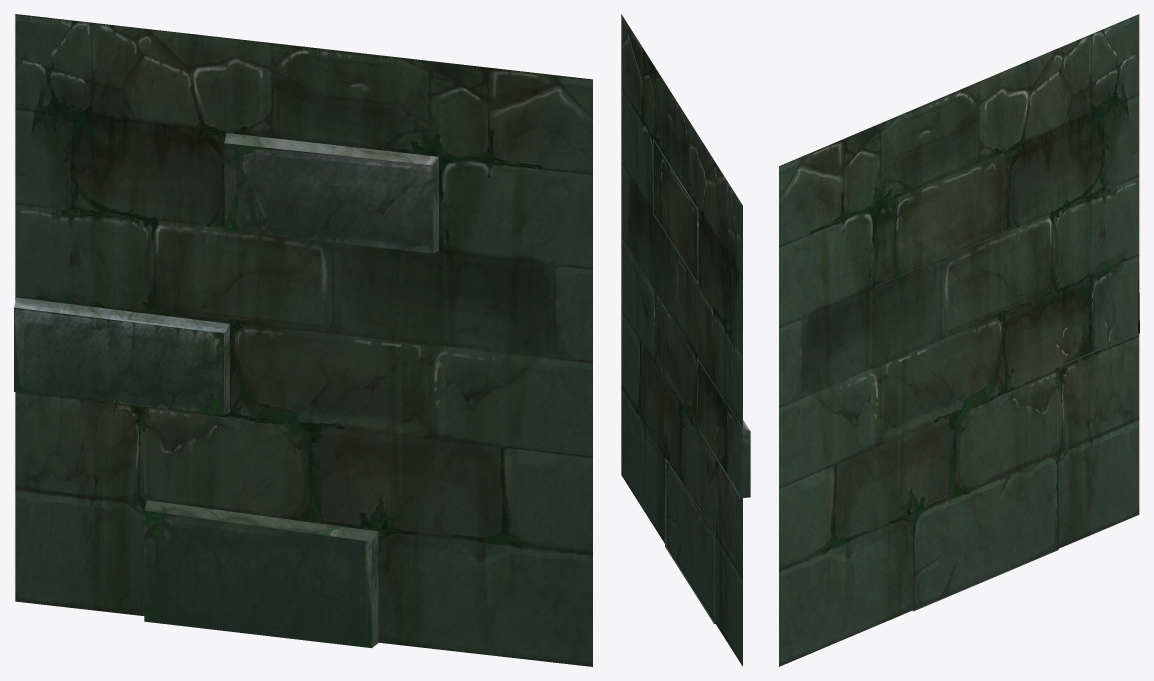
File: stemple_wall_diagonal_04.fbx
3 views of the same model, side by side, from view 1: azimuth 30°, elevation 25°; view 2: azimuth 150°, elevation 25°; view 3: azimuth 270°, elevation 25° (orthographic). The views are drawn at different scales.
Visible parts, largest first — view 1: stemple_wall_diagonal_04-0; view 2: stemple_wall_diagonal_04-0; view 3: stemple_wall_diagonal_04-0.
Boxes of the visible parts, x1,y1,x2,y2 form: stemple_wall_diagonal_04-0: [14, 14, 592, 666]; stemple_wall_diagonal_04-0: [621, 14, 750, 666]; stemple_wall_diagonal_04-0: [779, 14, 1139, 666].
Bounding box in the file's own units: 3.64 × 5.51 × 3.59.
